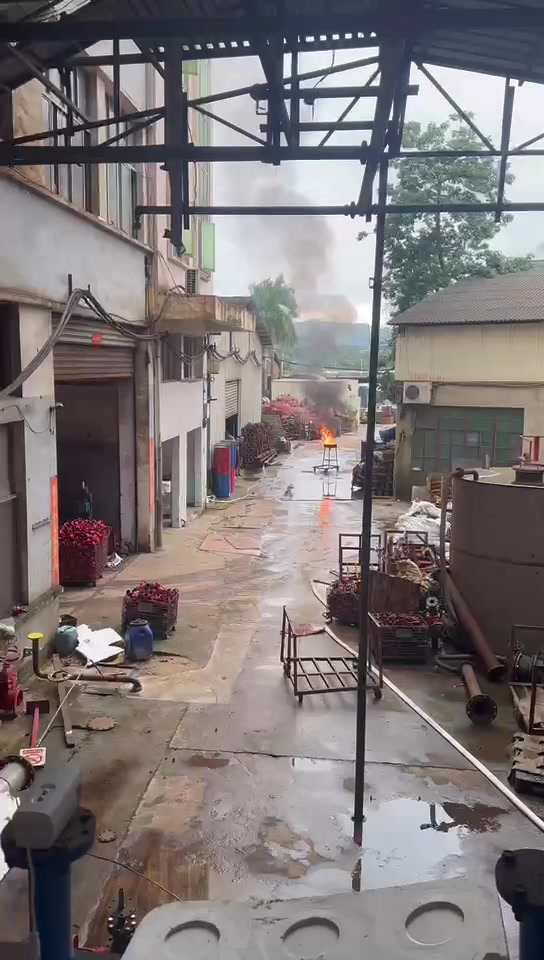fire: (320, 425, 335, 444)
